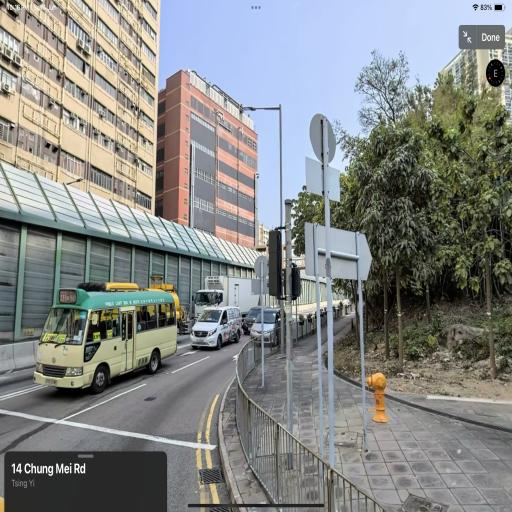Roads: (26, 253, 507, 490)
Trees: (310, 32, 508, 392)
